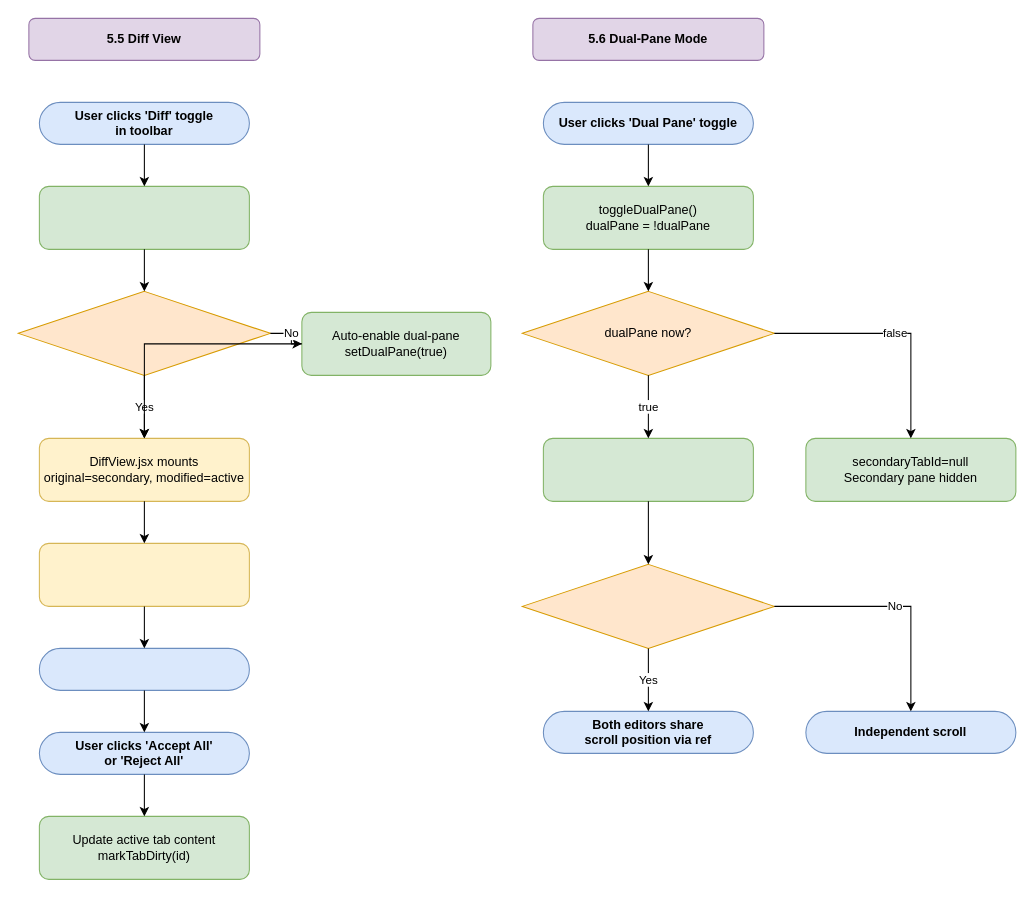
Image size: 1034x898. Some labels were removed from this diagram. Here are the shapes that lost their labels. From the top down, the box of each, then its label:
(38, 185, 249, 249): setDiffMode(true)
(17, 290, 270, 375): Dual-pane active?
(542, 437, 753, 501): secondaryTabId = next tab 2nd editor renders
(38, 542, 249, 606): Monaco DiffEditor renders side-by-side with highlights
(521, 563, 774, 648): Sync scroll enabled?
(38, 647, 249, 690): User reviews changes
